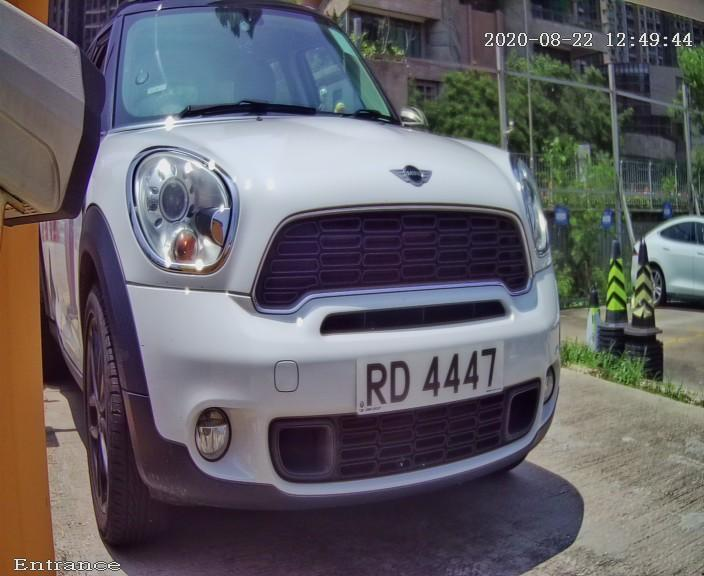Car: (23, 3, 610, 564)
License Plate: (319, 312, 538, 432)
